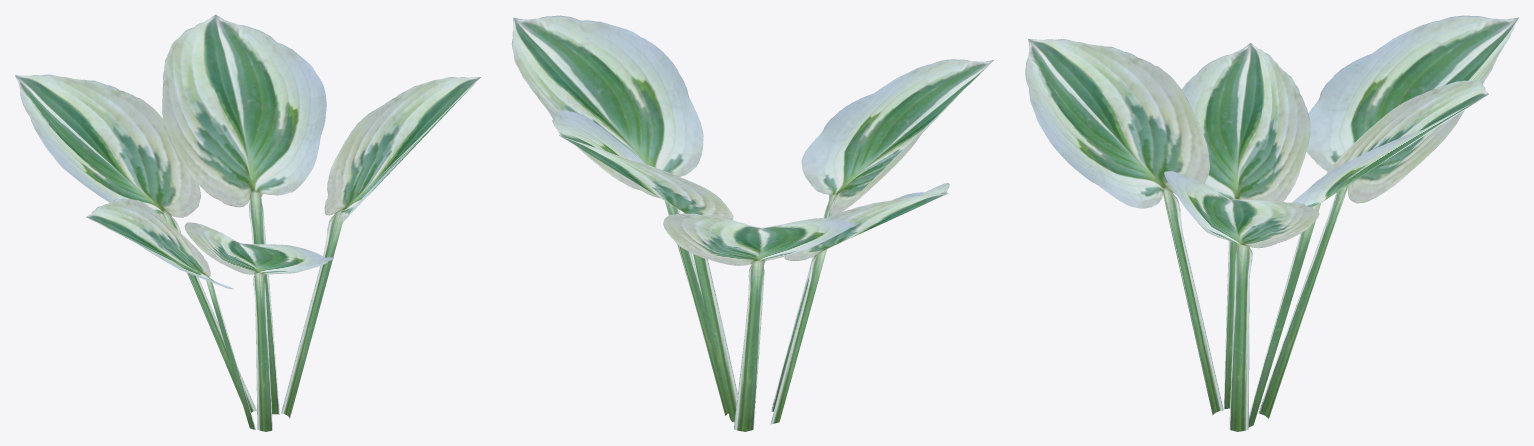
File: plant_small_wg_01H.fbx
The picture shows the model from 3 angles, left to right: view 1: azimuth 30°, elevation 25°; view 2: azimuth 150°, elevation 25°; view 3: azimuth 270°, elevation 25°; orthographic projection. The views are drawn at different scales.
Parts seen in each view (by area): view 1: plant_small_wg_01H; view 2: plant_small_wg_01H; view 3: plant_small_wg_01H.
Part boxes in pixels (bbox=[...]): plant_small_wg_01H: bbox=[15, 14, 480, 431]; plant_small_wg_01H: bbox=[511, 15, 993, 431]; plant_small_wg_01H: bbox=[1025, 15, 1518, 431].
Bounding box in the file's own units: 55.6 × 42.87 × 53.84.
